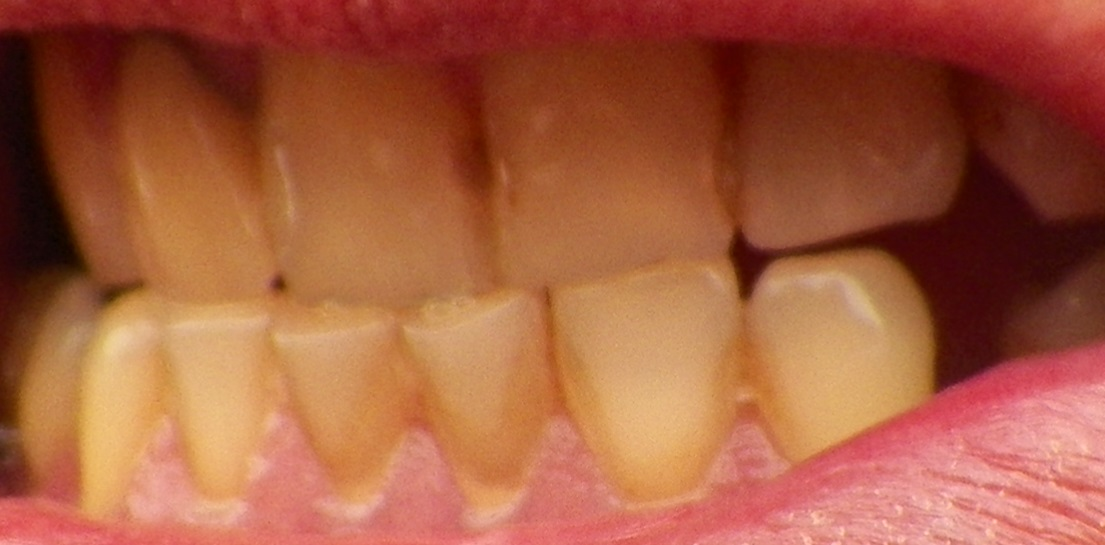boca: (4, 43, 963, 516)
